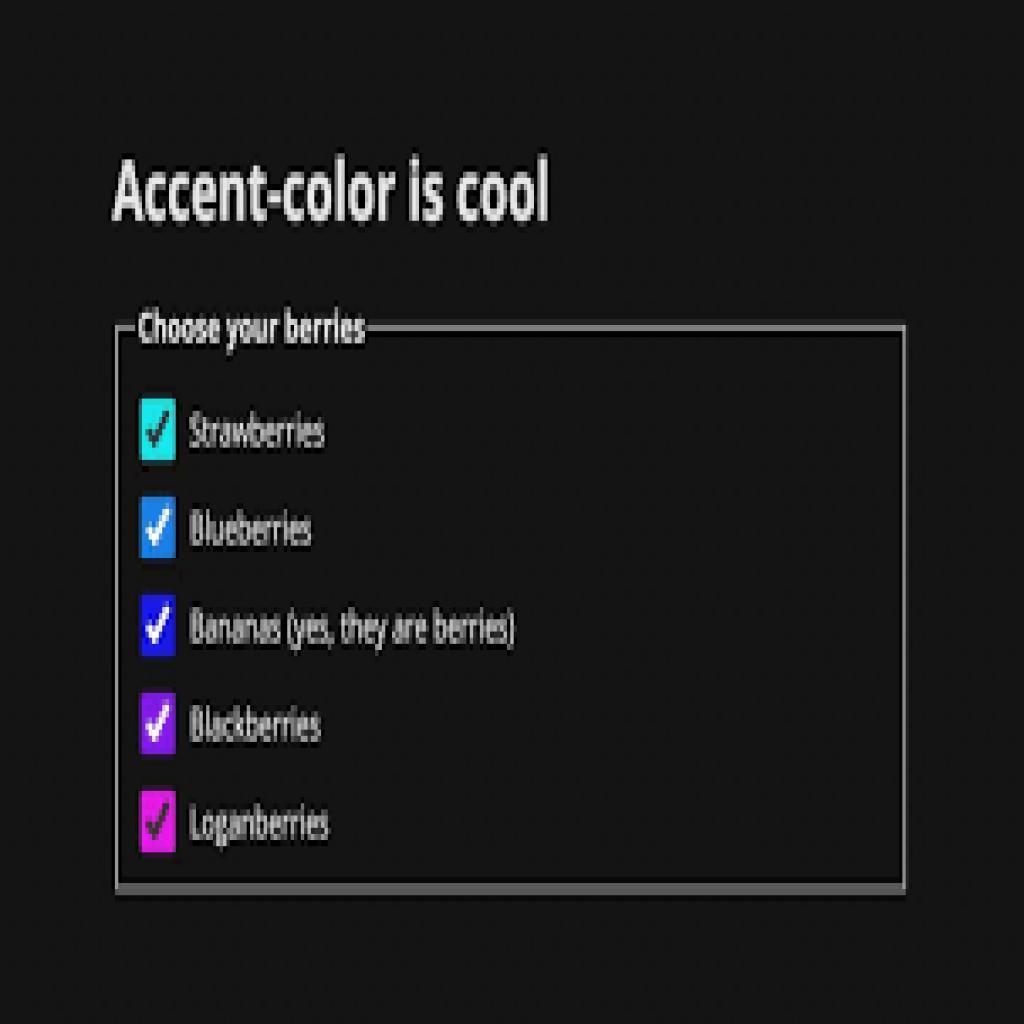checkbox: (139, 496, 178, 559), (139, 693, 178, 755), (140, 594, 176, 658), (140, 398, 175, 462), (140, 789, 175, 853)
label: (108, 154, 555, 230), (190, 600, 520, 658), (135, 307, 369, 350), (188, 797, 334, 854), (187, 405, 331, 456), (190, 701, 325, 749), (188, 504, 318, 552)
